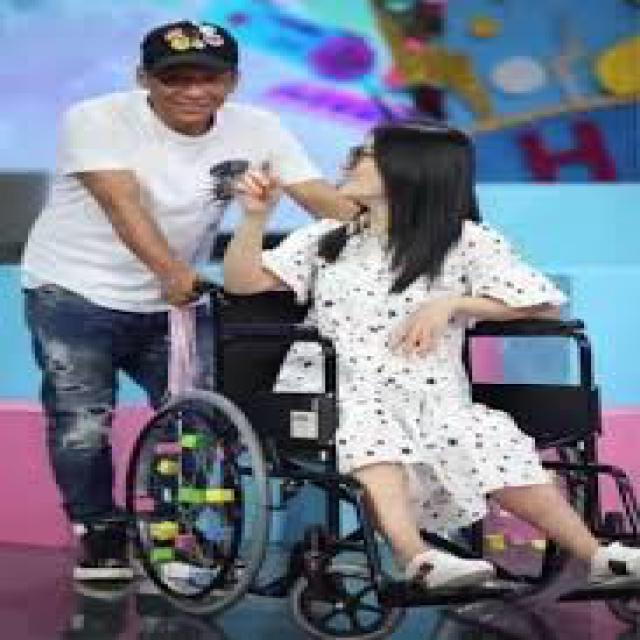wheelchairs: (126, 258, 636, 624)
